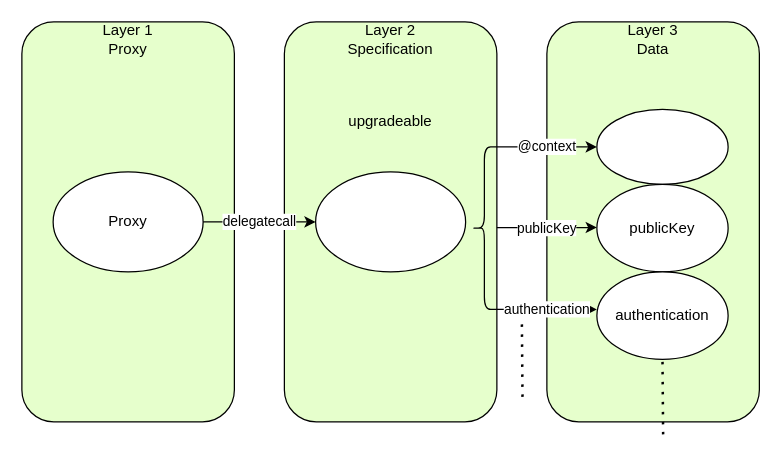
This 781x459 diagram has some shape labels left out. Here are the shapes that lost their labels. From the top down, the centre of each, then its label:
At point 662,146: "context".
At point 390,221: "DIDContract".
